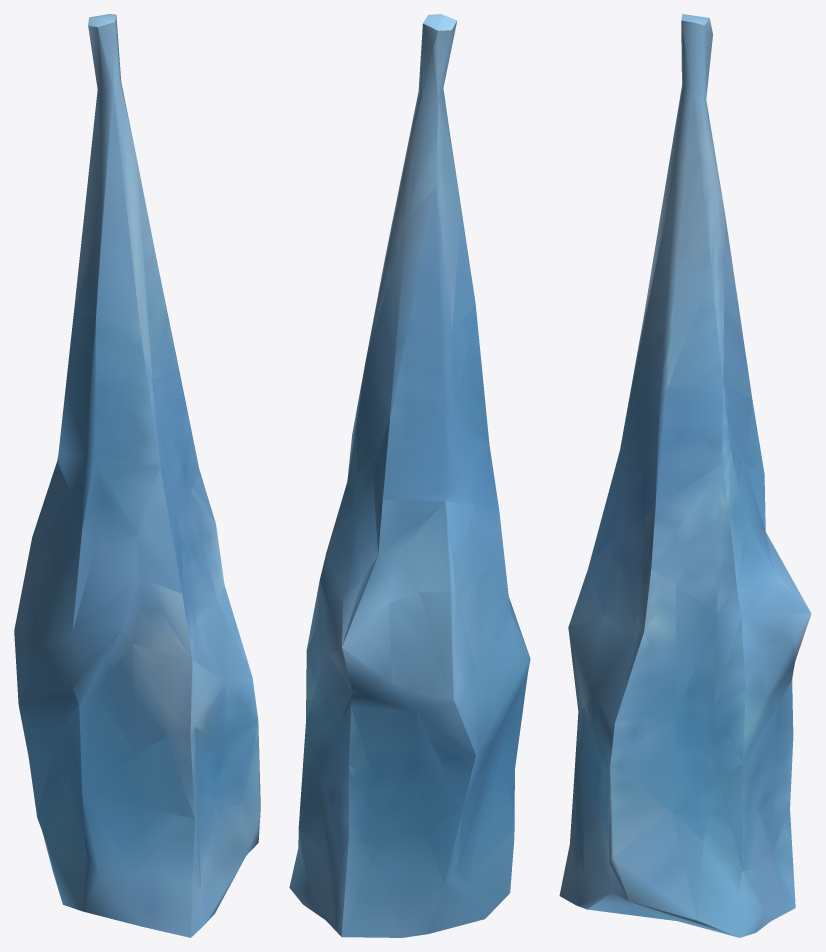
File: pincho_escarcha_1_300.glb
The picture shows the model from 3 angles, left to right: view 1: azimuth 30°, elevation 25°; view 2: azimuth 150°, elevation 25°; view 3: azimuth 270°, elevation 25°; orthographic projection. The views are drawn at different scales.
Visible parts, largest first — view 1: pincho_escarcha_1_malla; view 2: pincho_escarcha_1_malla; view 3: pincho_escarcha_1_malla.
Boxes of the visible parts, left/top/right/bottom form: pincho_escarcha_1_malla: left=14, top=14, right=260, bottom=937; pincho_escarcha_1_malla: left=289, top=14, right=530, bottom=937; pincho_escarcha_1_malla: left=559, top=14, right=811, bottom=937.
Bounding box in the file's own units: 0.0386 × 0.1704 × 0.0447.
Materials: 1 (1 with a texture image).
